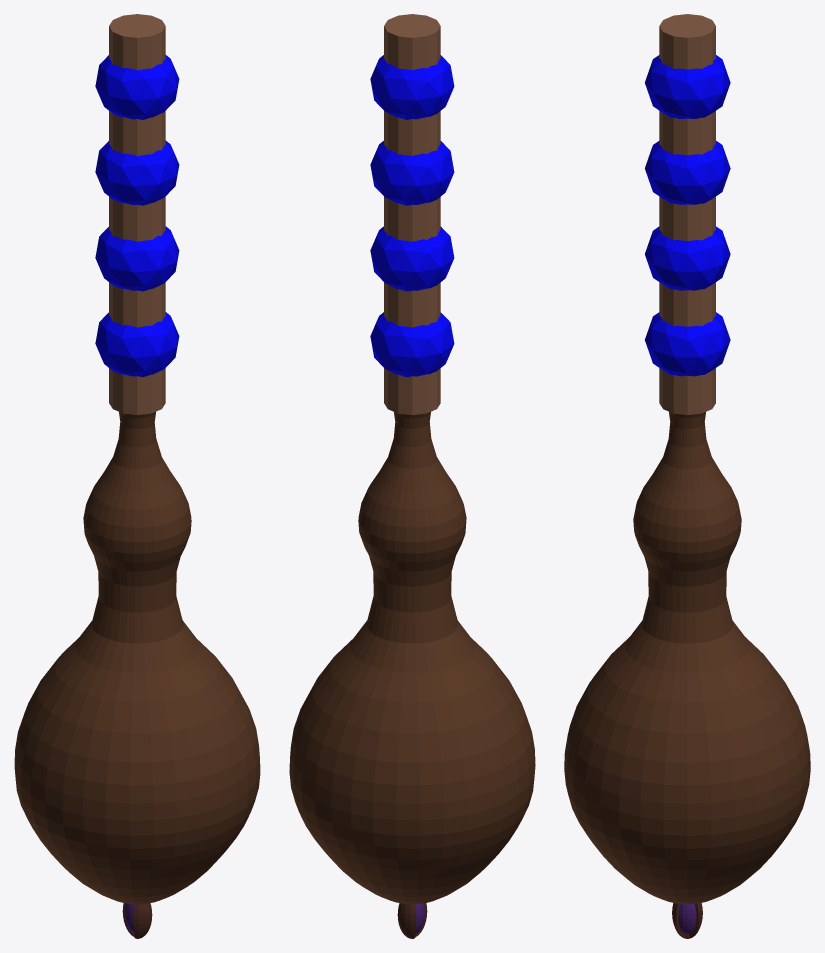
File: Wand 637.glb
The picture shows the model from 3 angles, left to right: view 1: azimuth 30°, elevation 25°; view 2: azimuth 150°, elevation 25°; view 3: azimuth 270°, elevation 25°; orthographic projection.
Parts seen in each view (by area): view 1: GeneratedWand; view 2: GeneratedWand; view 3: GeneratedWand.
Part boxes in pixels (<box>): GeneratedWand: <box>14,14,260,938</box>; GeneratedWand: <box>289,14,535,938</box>; GeneratedWand: <box>564,14,810,938</box>.
Size of the model in its own units: 0.123 by 0.5019 by 0.123.
